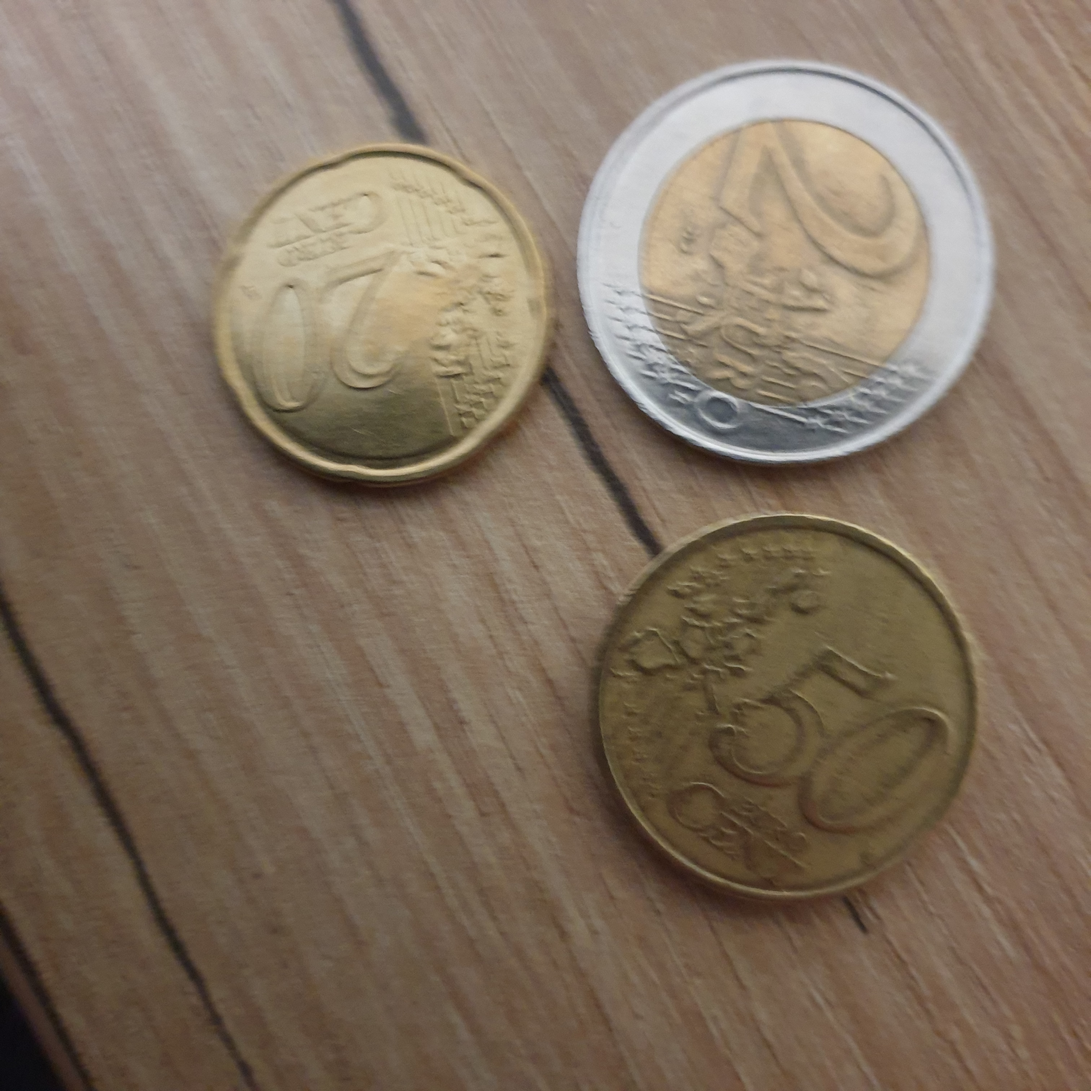2 euro: (561, 52, 1001, 476)
20 cent: (195, 142, 549, 501)
50 cent: (565, 501, 986, 913)
